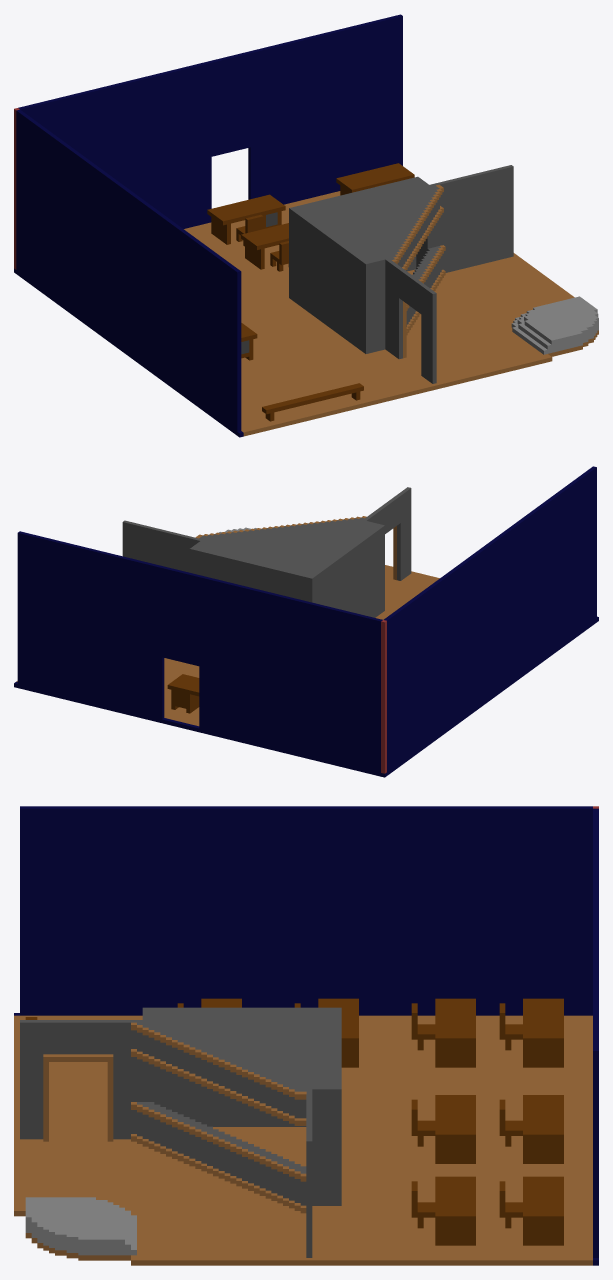
File: PoliceDetailed-0.obj
3 renders of one model, top to bottom at view 1: azimuth 30°, elevation 25°; view 2: azimuth 150°, elevation 25°; view 3: azimuth 270°, elevation 25°, orthographic. The views are drawn at different scales.
Visible parts, largest first — view 1: PoliceDetailed-0; view 2: PoliceDetailed-0; view 3: PoliceDetailed-0.
Part boxes in pixels (x1,y1,x2,y2): PoliceDetailed-0: (14, 14, 598, 437); PoliceDetailed-0: (14, 466, 598, 777); PoliceDetailed-0: (14, 806, 598, 1265).
Size of the model in its own units: 100 by 40 by 100.
1 material, 1 textured.
